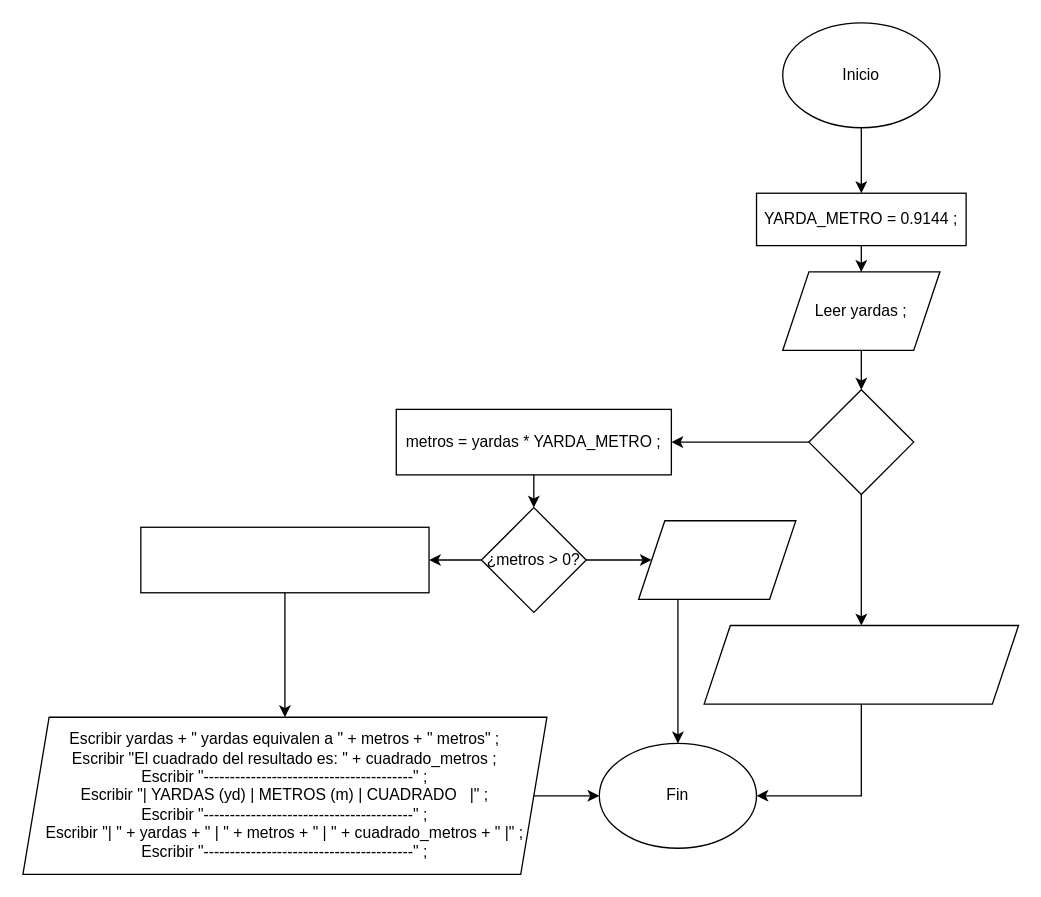
This 1041x897 diagram has some shape labels left out. The shapes that lost their labels are listed below. From the top down, each one's box as (x1, y1, x2, y2) in pixels, then its label:
(808, 388, 914, 495): ¿yardas > 0?
(140, 526, 429, 593): cuadrado_metros = metros * metros ;
(637, 519, 796, 599): Escribir "Error: El resultado en metros no es valido." ;
(703, 624, 1019, 704): Escribir "Error: La distancia en yardas debe ser mayor a cero." ;
